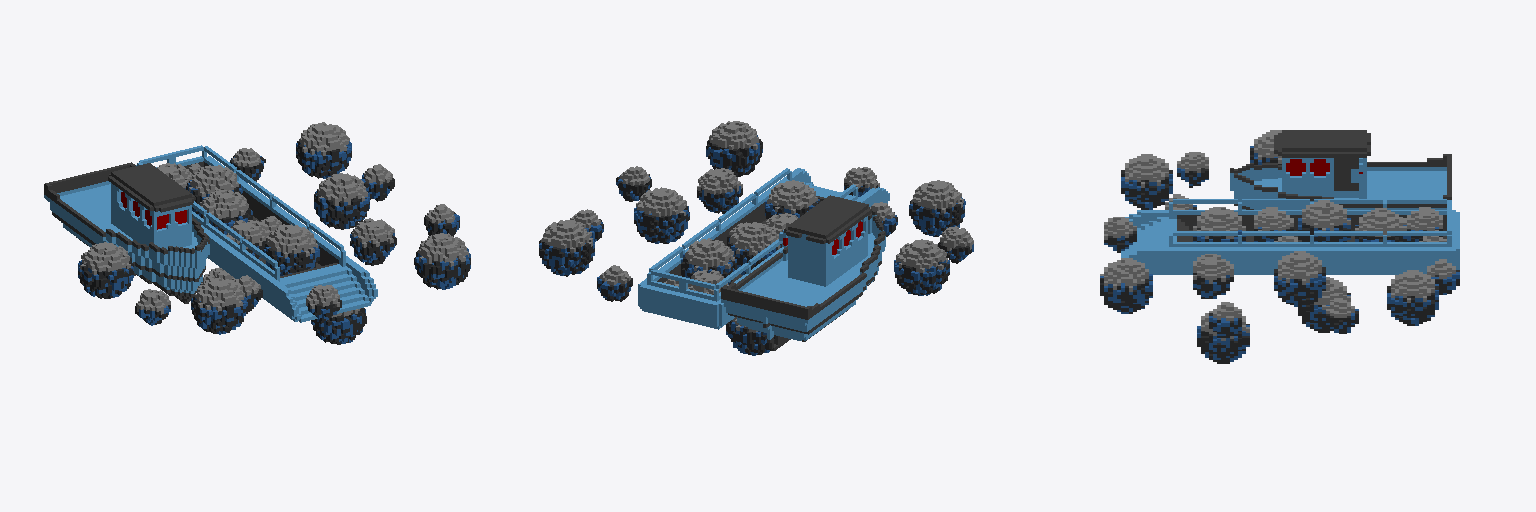
3 views of the same model, side by side, from view 1: azimuth 30°, elevation 25°; view 2: azimuth 150°, elevation 25°; view 3: azimuth 270°, elevation 25° (orthographic).
Visible parts, largest first — view 1: meatballs-1; view 2: meatballs-1; view 3: meatballs-1.
Boxes of the visible parts, x1,y1,x2,y2 form: meatballs-1: [44, 122, 470, 344]; meatballs-1: [539, 121, 973, 355]; meatballs-1: [1100, 130, 1459, 363].
Bounding box in the file's own units: 100 × 42 × 89.
Materials: 1 (1 with a texture image).